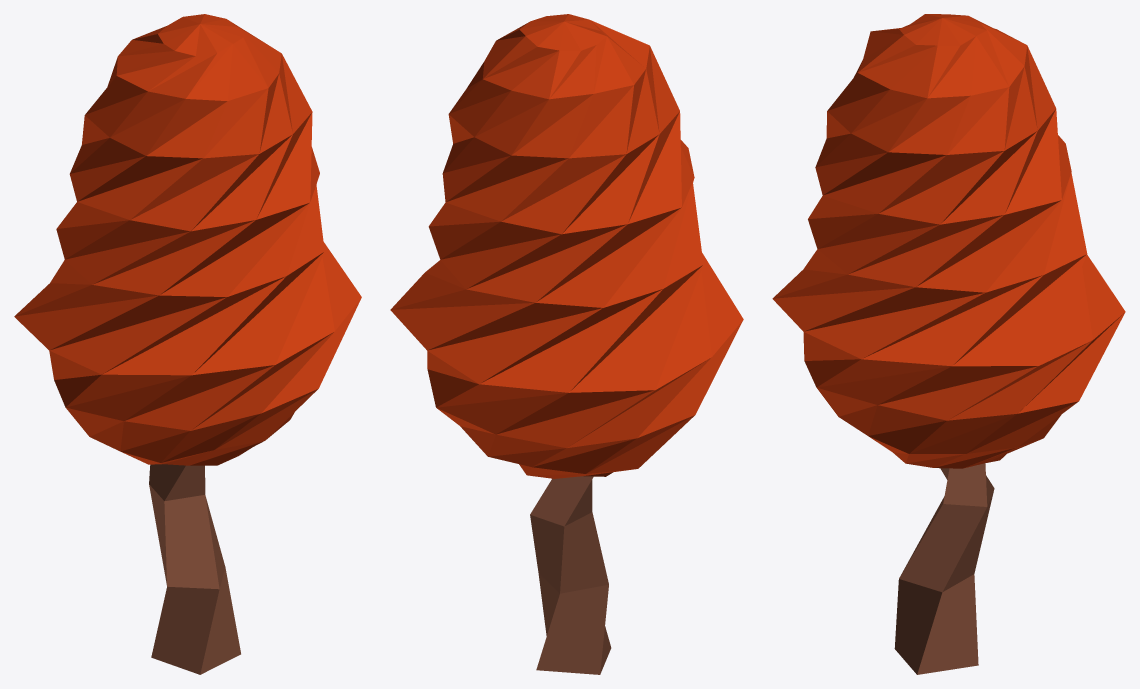
Rendered from Tree_14_summer_red_mat.fbx.
The picture shows the model from 3 angles, left to right: view 1: azimuth 30°, elevation 25°; view 2: azimuth 150°, elevation 25°; view 3: azimuth 270°, elevation 25°; orthographic projection. The views are drawn at different scales.
Visible parts, largest first — view 1: Tree_14_summer_red_mat; view 2: Tree_14_summer_red_mat; view 3: Tree_14_summer_red_mat.
Boxes of the visible parts, x1,y1,x2,y2 form: Tree_14_summer_red_mat: (14, 14, 361, 674); Tree_14_summer_red_mat: (390, 14, 743, 674); Tree_14_summer_red_mat: (772, 14, 1125, 674).
Size of the model in its own units: 104 by 223 by 111.
